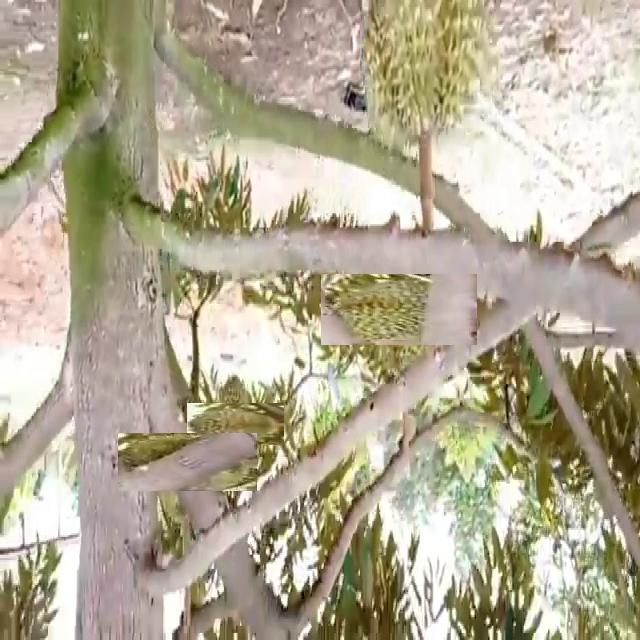durian: (356, 2, 490, 153), (342, 253, 456, 367), (137, 413, 237, 511), (200, 388, 270, 458)
